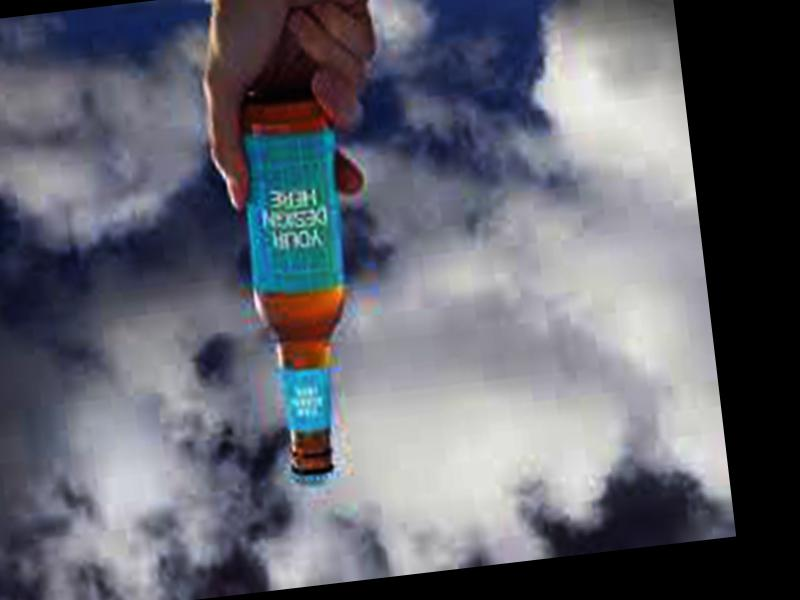Beer: (230, 89, 365, 487)
